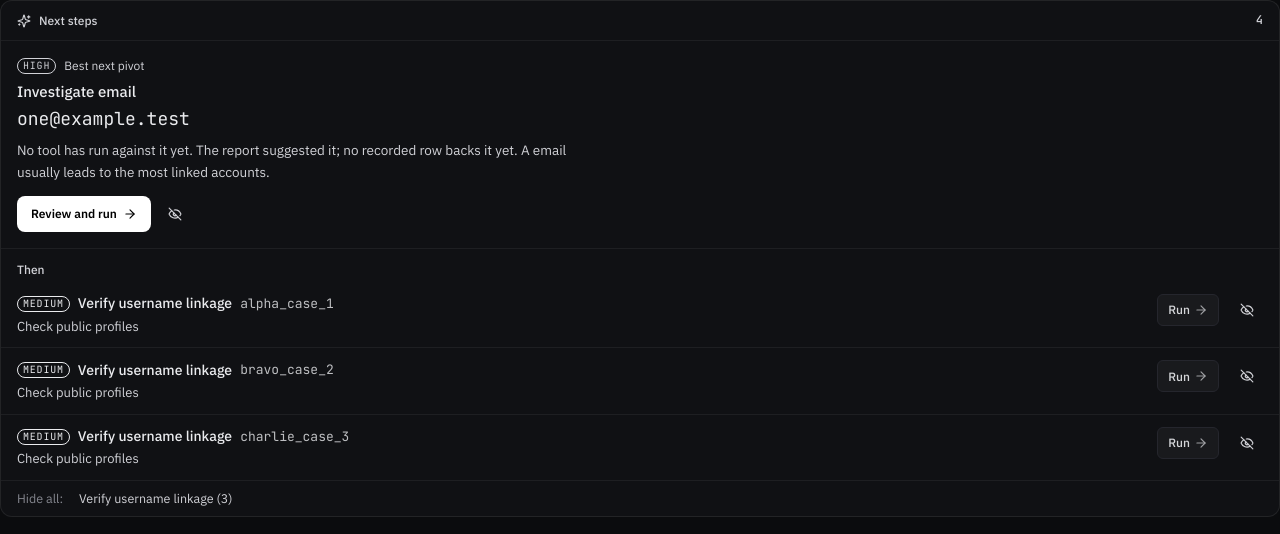
Test: hiding pivots from the Next list › Undo brings back the last hide; Show all brings back everything
Click the button named "Hide Verify username linkage on alpha_case_1". click: (1247, 310)
box: [1231,294,1263,326]
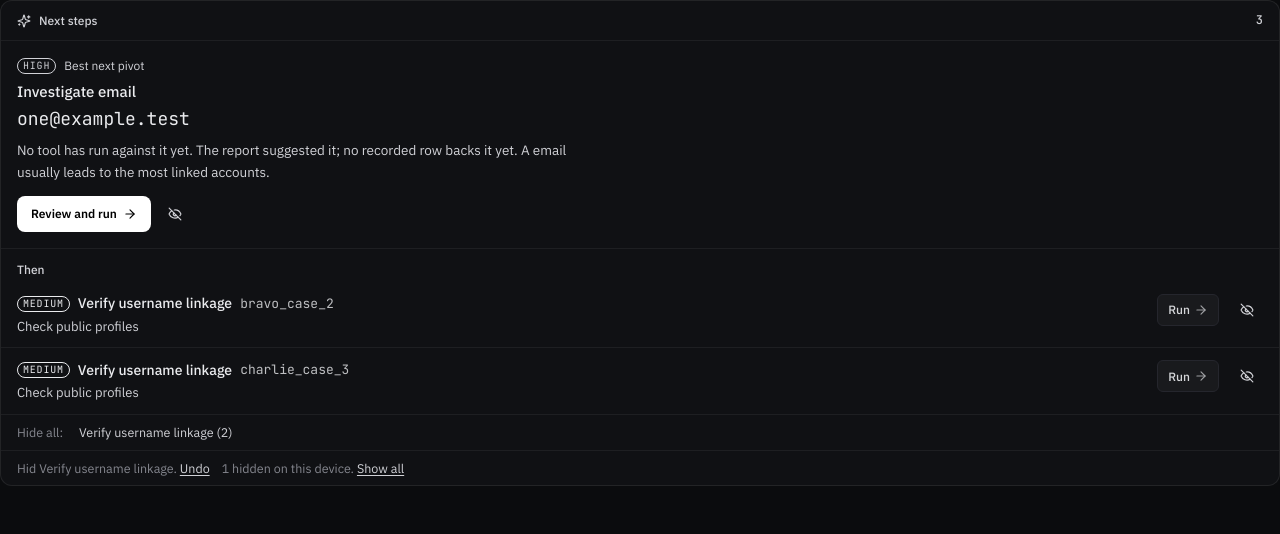
Check: the text "Next steps" no longer shows "alpha_case_1"
Click the button "Undo". click: (195, 468)
box: [180,458,210,477]
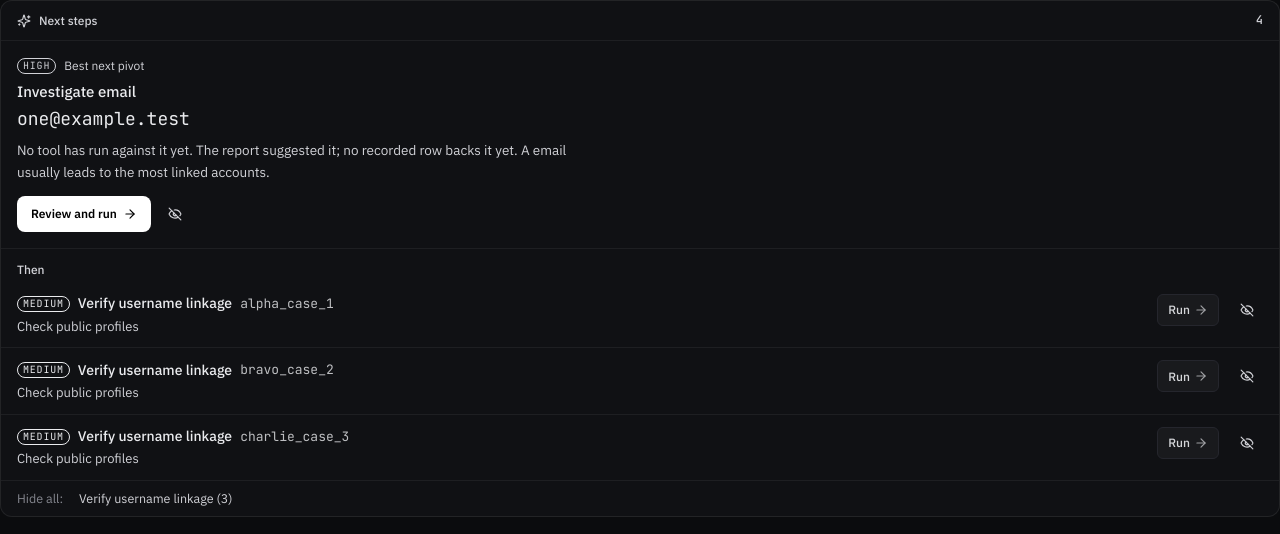
Check: the element "Next steps" shows "alpha_case_1", box [240,295,334,312]
Click the button named "Hide Verify username linkage on bravo_case_2". click: (1247, 376)
box: [1231,360,1263,392]
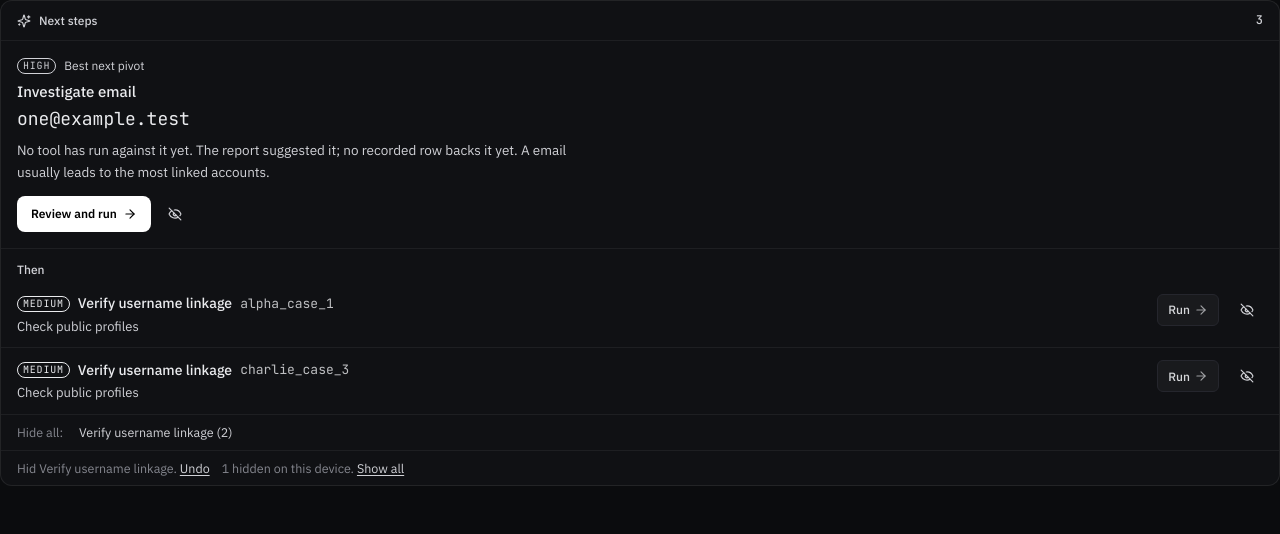
Click the button named "Hide Verify username linkage on charlie_case_3". click: (1247, 376)
box: [1231,360,1263,392]
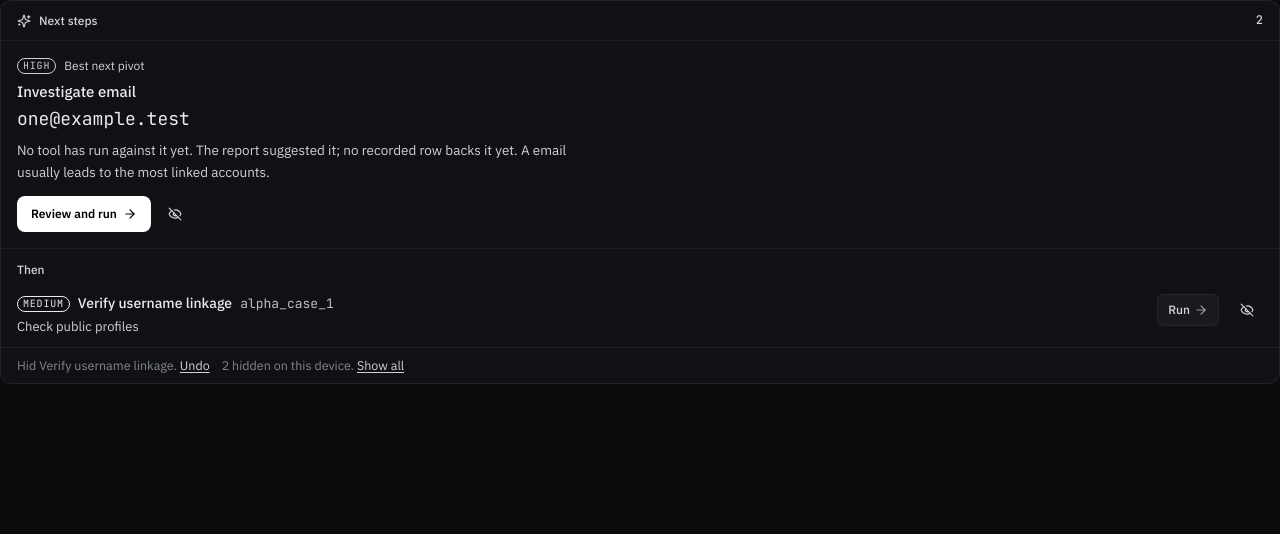
Check: the text "2 hidden on this device. Show all" is shown, box [222,356,404,375]
Click the button "Show all". click: (381, 366)
box: [357,356,404,375]
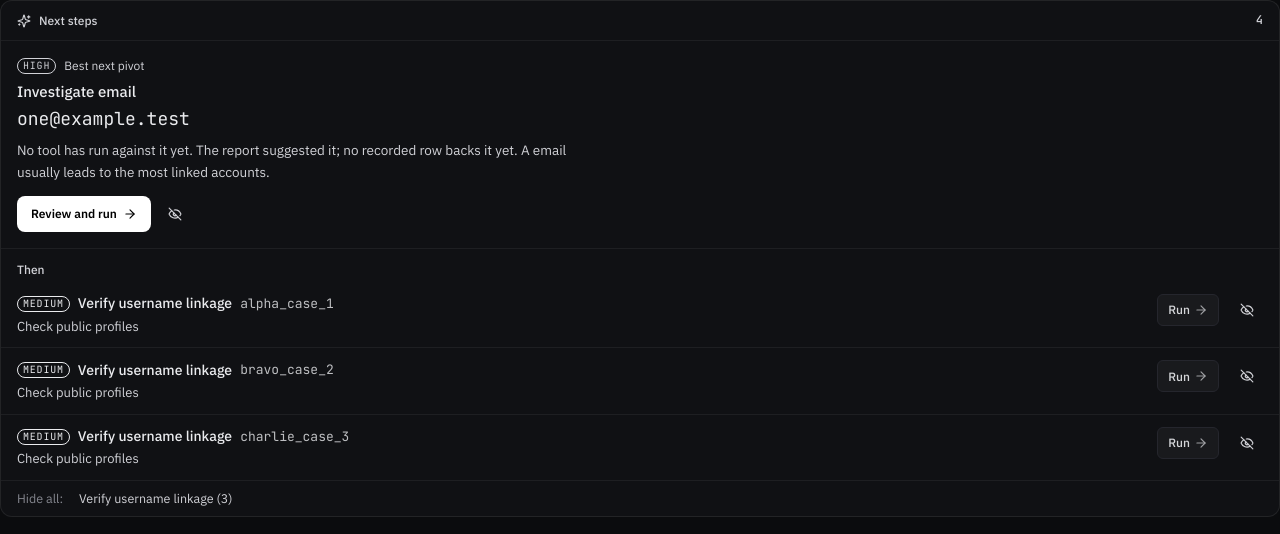
Check: the element "Next steps" shows "bravo_case_2", box [240,361,334,378]
Check: the element "Next steps" shows "charlie_case_3", box [240,428,349,445]
